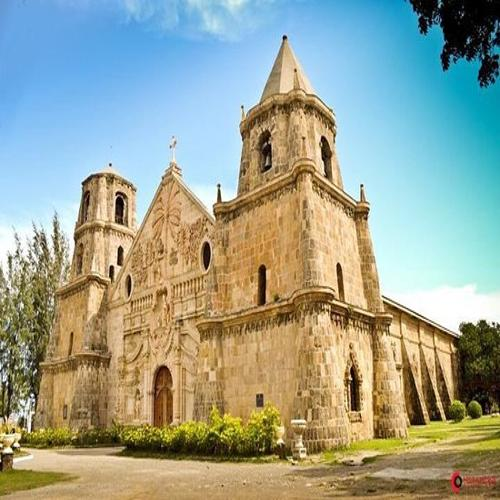Miagao Church: (22, 19, 391, 477)
